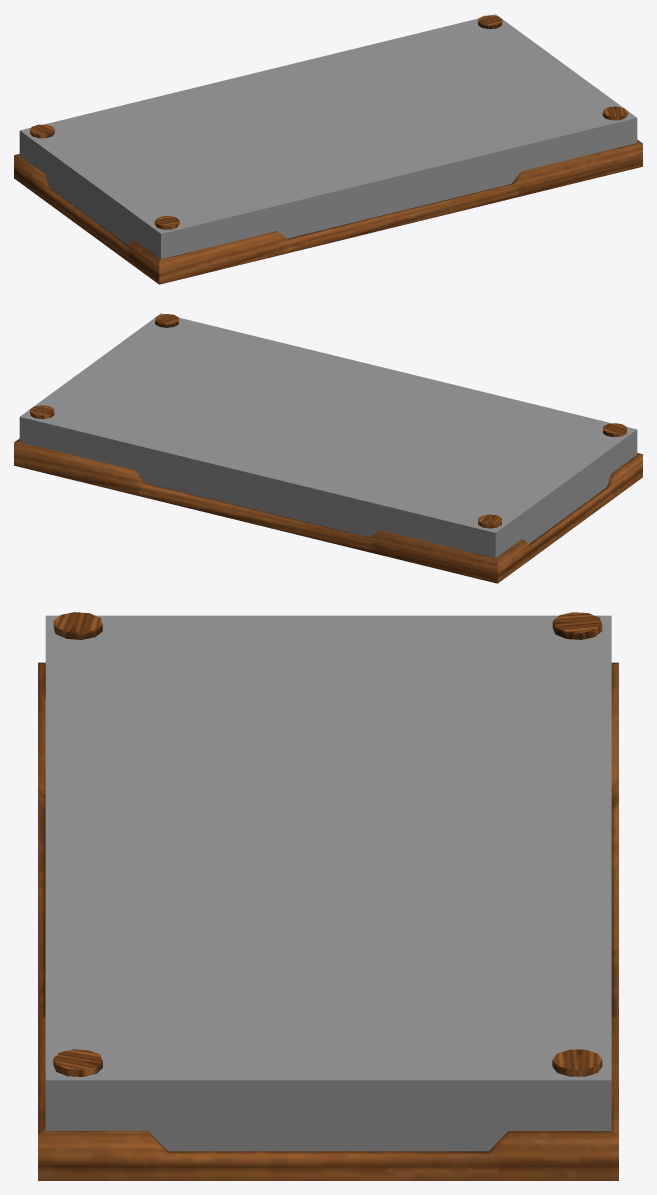
The model's file is Parchment01.FBX.
3 renders of one model, top to bottom at view 1: azimuth 30°, elevation 25°; view 2: azimuth 150°, elevation 25°; view 3: azimuth 270°, elevation 25°, orthographic. The views are drawn at different scales.
Visible parts, largest first — view 1: Parchment01; view 2: Parchment01; view 3: Parchment01.
Part boxes in pixels (left/top/right/bottom): Parchment01: left=14, top=14, right=642, bottom=284; Parchment01: left=14, top=313, right=642, bottom=583; Parchment01: left=38, top=612, right=618, bottom=1180.
Bounding box in the file's own units: 0.5001 × 0.0513 × 0.2602.
